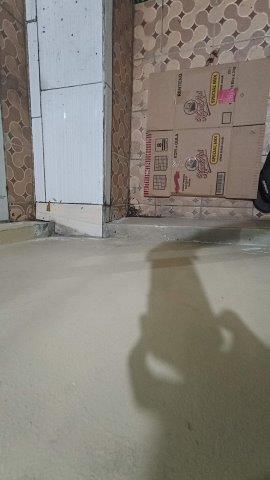kardus: (144, 60, 270, 197)
